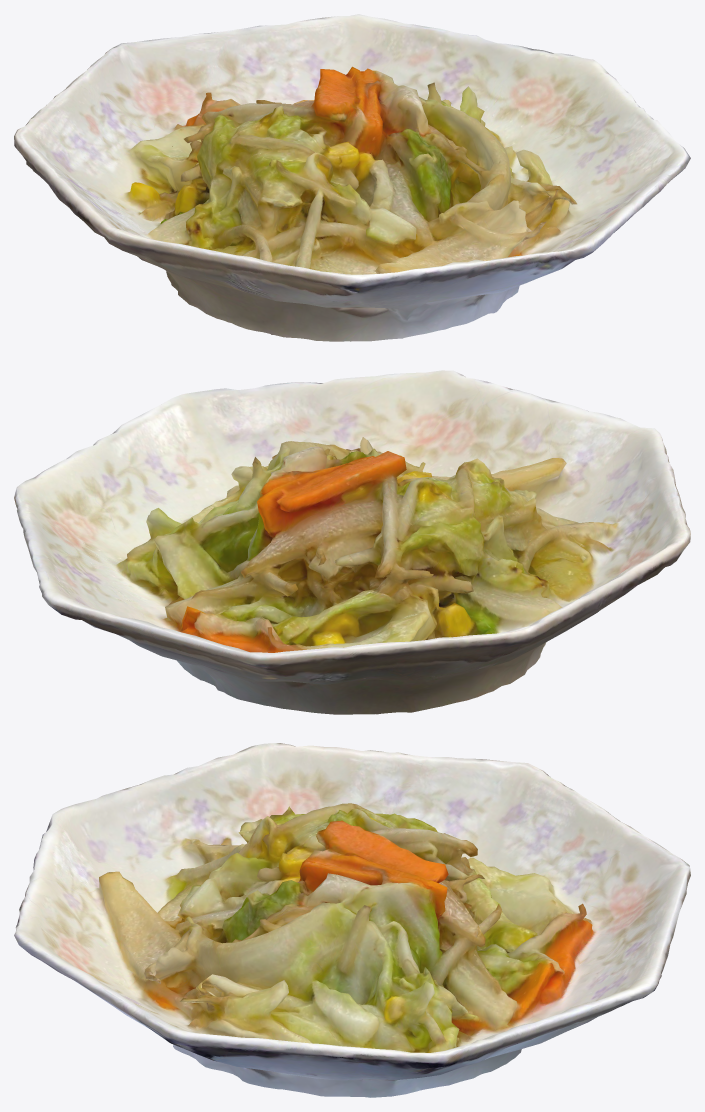
File: YasaiItame.glb
3 renders of one model, top to bottom at view 1: azimuth 30°, elevation 25°; view 2: azimuth 150°, elevation 25°; view 3: azimuth 270°, elevation 25°, orthographic. The views are drawn at different scales.
Visible parts, largest first — view 1: acfd6c02-22d0-401b-9ce8-7349ffd5d304; view 2: acfd6c02-22d0-401b-9ce8-7349ffd5d304; view 3: acfd6c02-22d0-401b-9ce8-7349ffd5d304.
Part boxes in pixels (x1,y1,x2,y2): acfd6c02-22d0-401b-9ce8-7349ffd5d304: [14, 14, 690, 341]; acfd6c02-22d0-401b-9ce8-7349ffd5d304: [14, 370, 690, 714]; acfd6c02-22d0-401b-9ce8-7349ffd5d304: [14, 743, 690, 1097].
Bounding box in the file's own units: 0.2115 × 0.0622 × 0.2119.
1 material, 1 textured.
